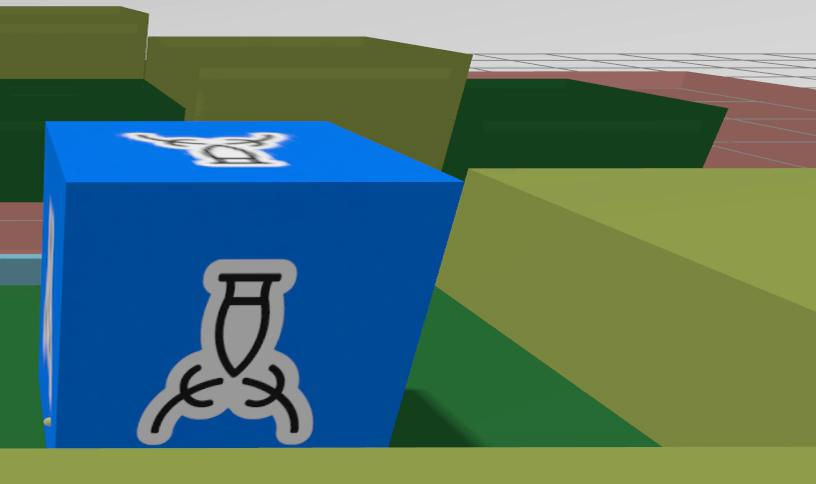KFS_REAL: (37, 120, 461, 448), (138, 260, 311, 445), (122, 132, 287, 165)
